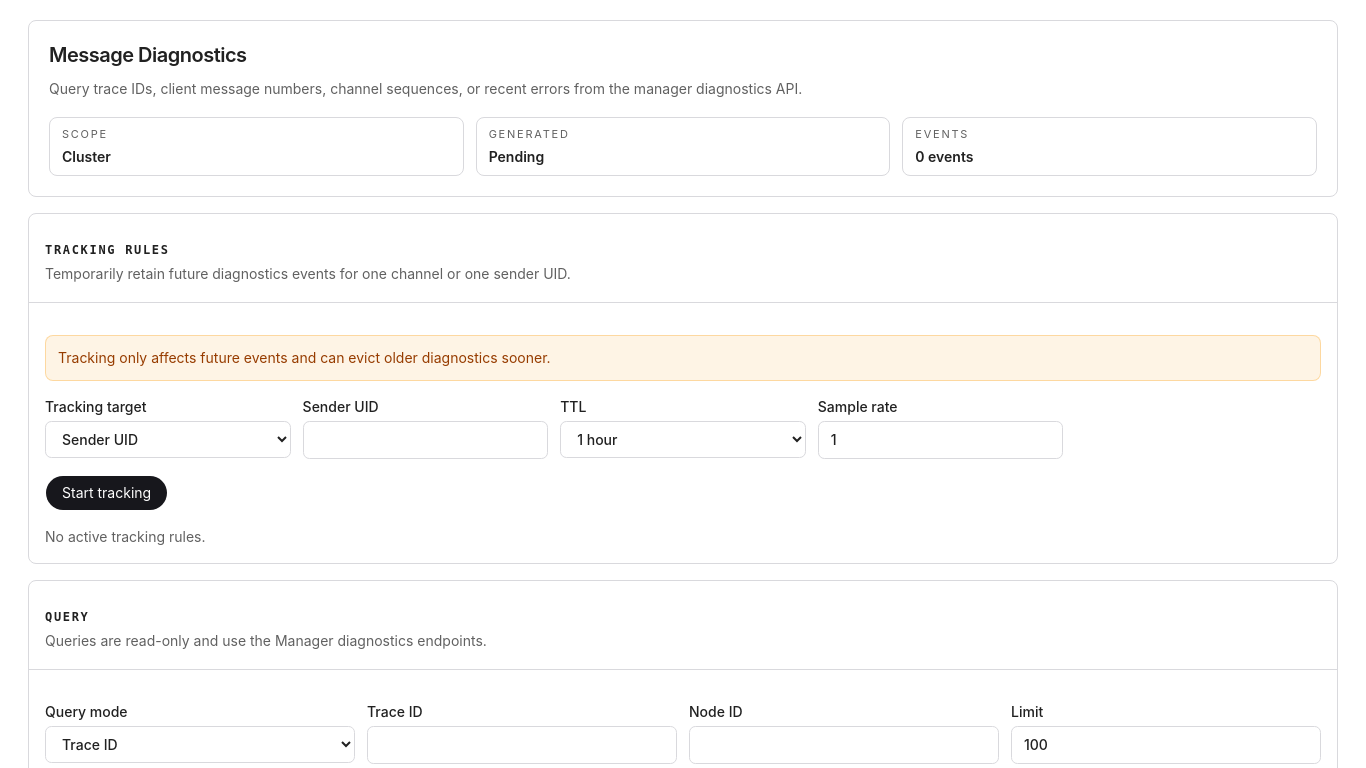
Test: creates a sender uid tracking rule
The width and height of the screenshot is (1366, 768).
Select "Sender UID" in the dropdown labelled "Tracking target" at (168,439), box [45,420,291,458]
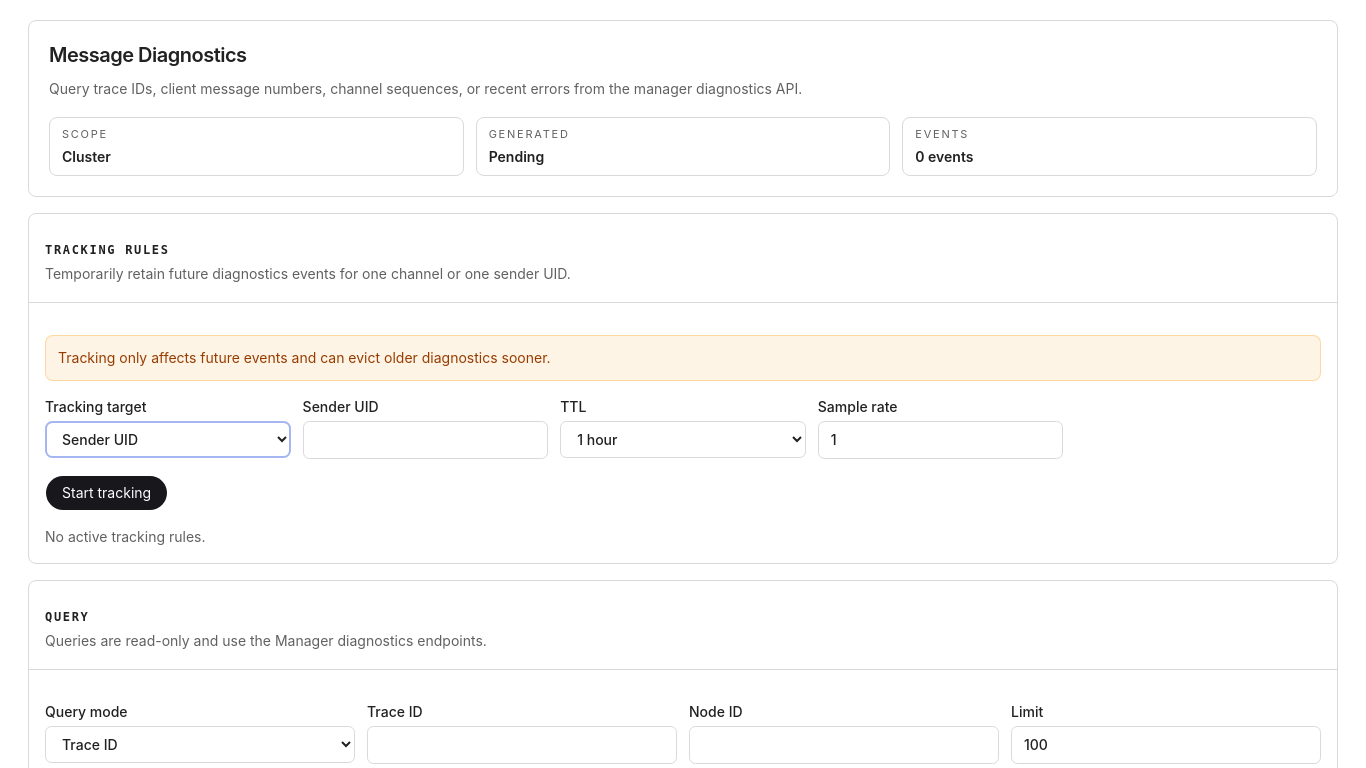
Type "u1" into the field labelled "Sender UID" at (425,440), box [303,420,548,458]
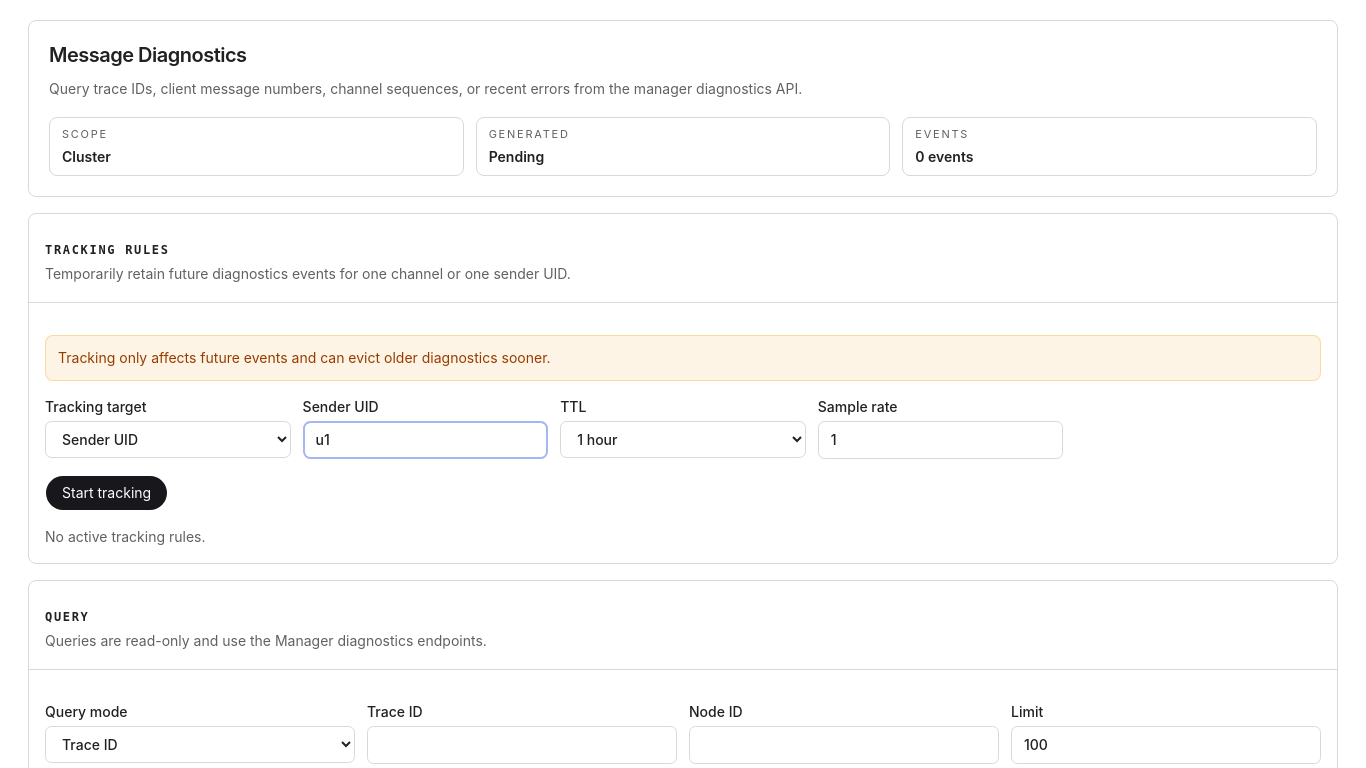
Select "1 hour" in the dropdown labelled "TTL" at (683,439), box [560,420,806,458]
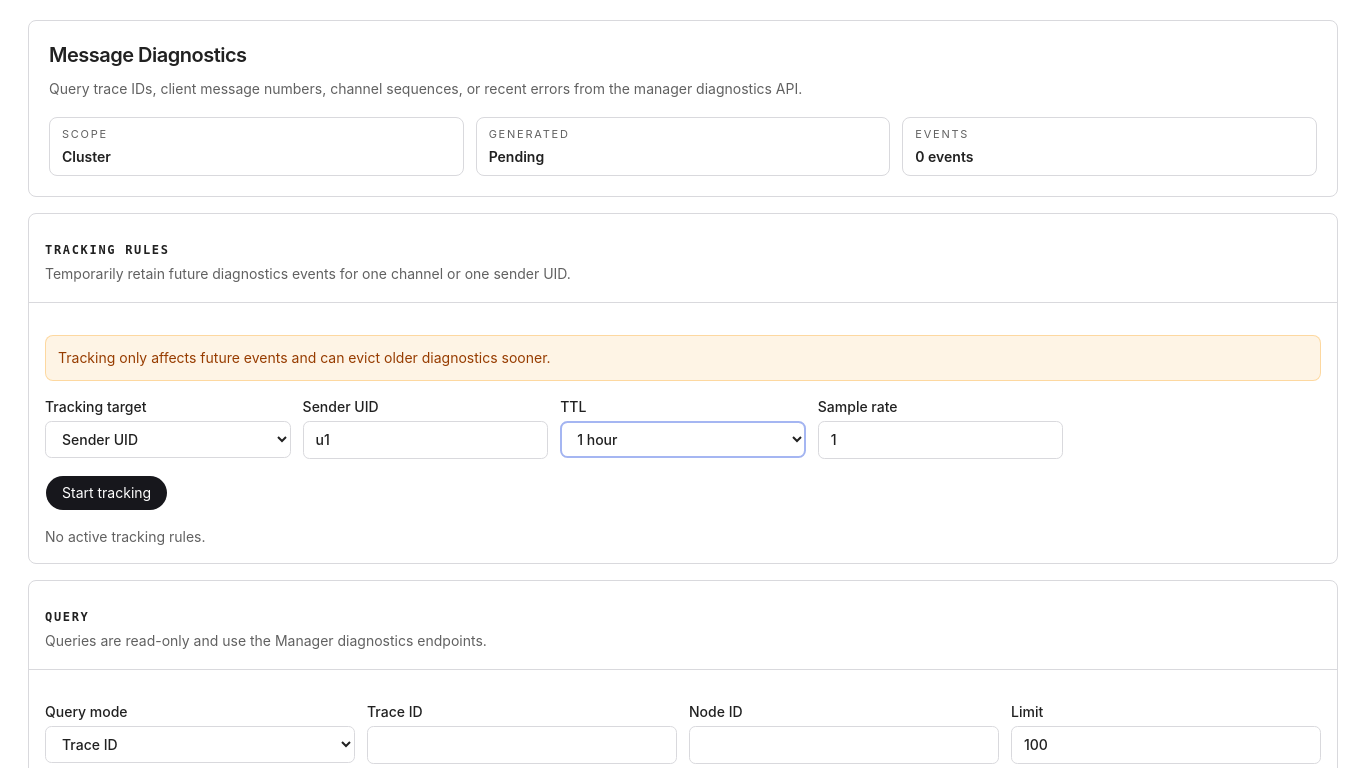
Click the button "Start tracking" at (107,492), box [45,474,168,510]
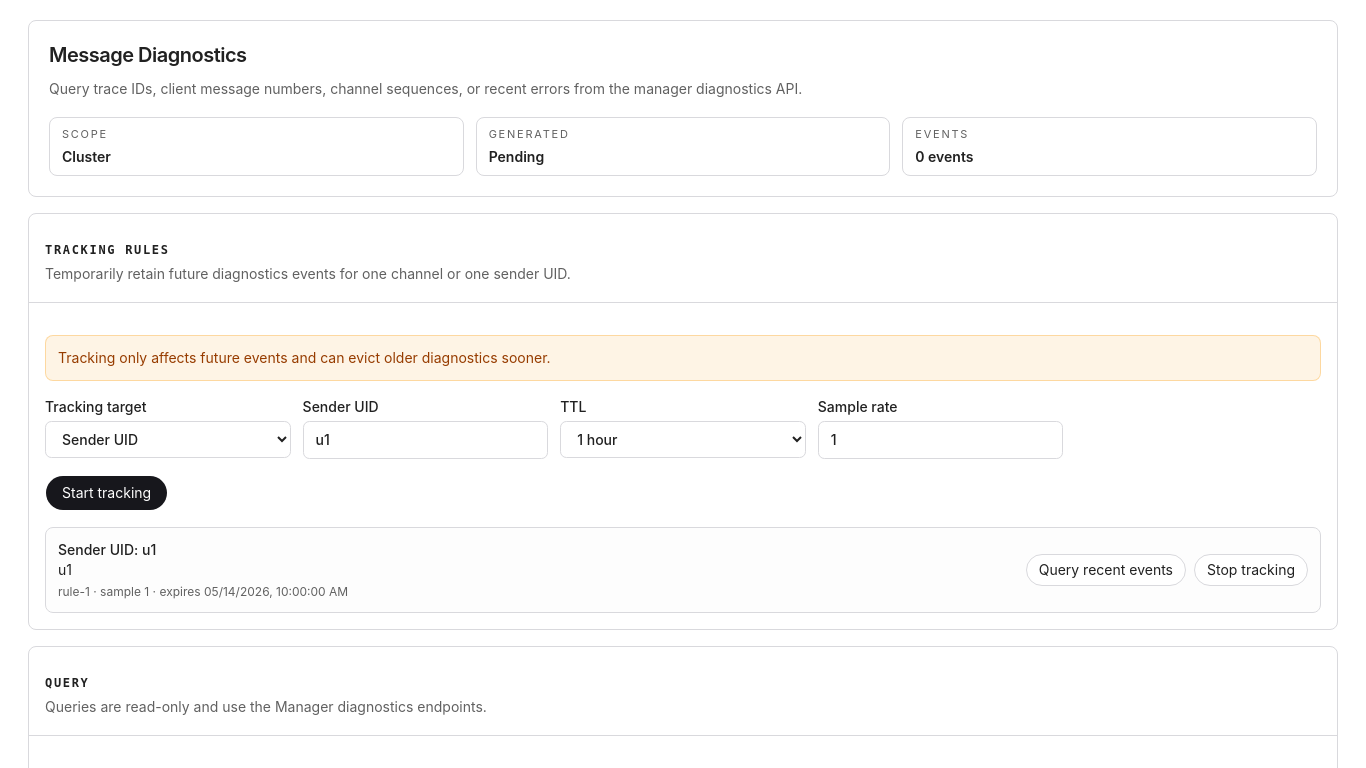
Result: the text "u1" is shown at [58,560,72,578]
